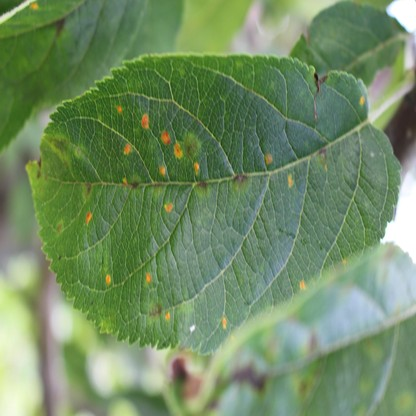rust: (116, 102, 180, 181), (162, 203, 173, 213), (265, 152, 273, 165), (288, 173, 294, 189), (104, 272, 111, 284), (122, 175, 129, 185), (222, 315, 227, 329), (31, 2, 39, 10), (86, 211, 92, 221), (146, 272, 152, 282), (299, 280, 305, 290), (360, 94, 365, 106), (165, 312, 170, 321)
scab: (37, 136, 91, 201), (355, 342, 382, 416), (290, 326, 316, 399), (308, 66, 337, 98), (183, 131, 200, 158), (394, 392, 413, 410), (231, 174, 249, 192), (311, 144, 328, 162), (54, 17, 68, 38), (195, 179, 210, 197), (149, 300, 162, 320), (129, 174, 142, 189), (56, 220, 62, 231)
